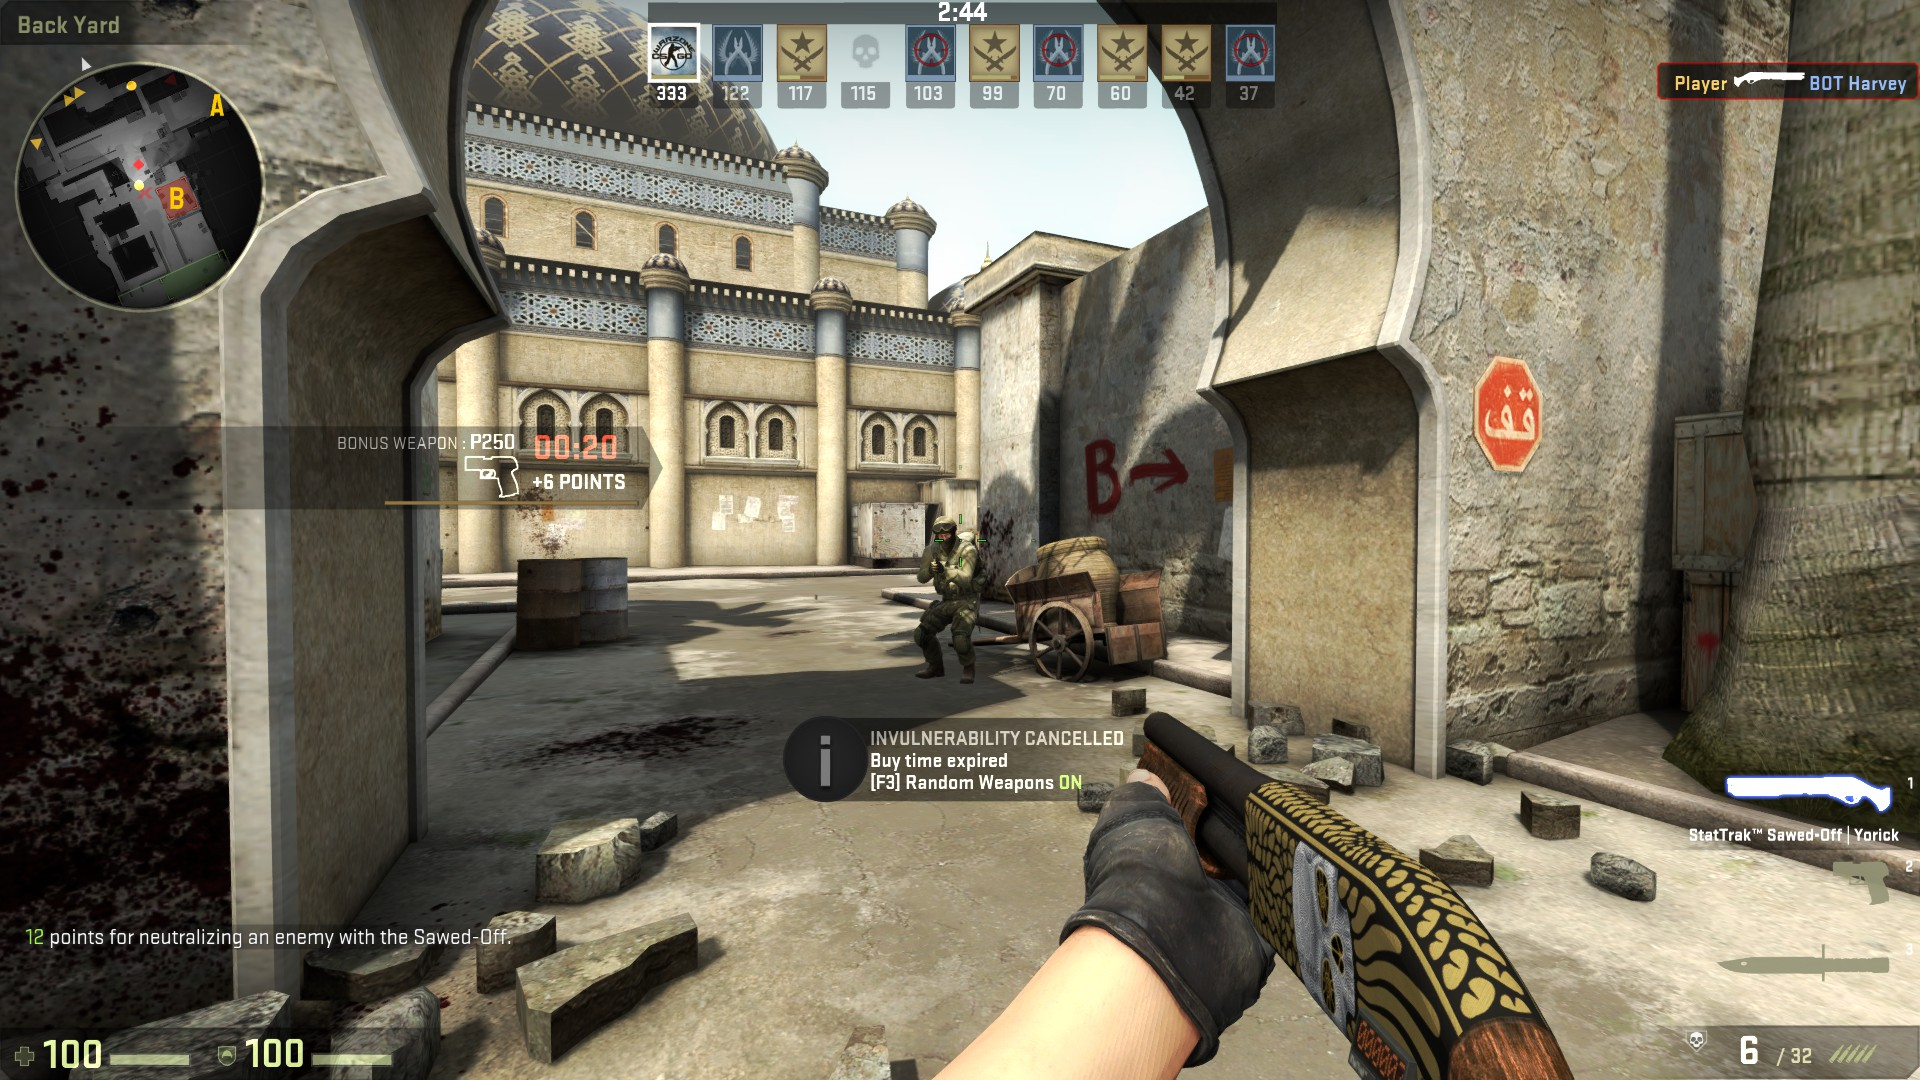c: (913, 516, 984, 682)
ch: (930, 516, 960, 551)
